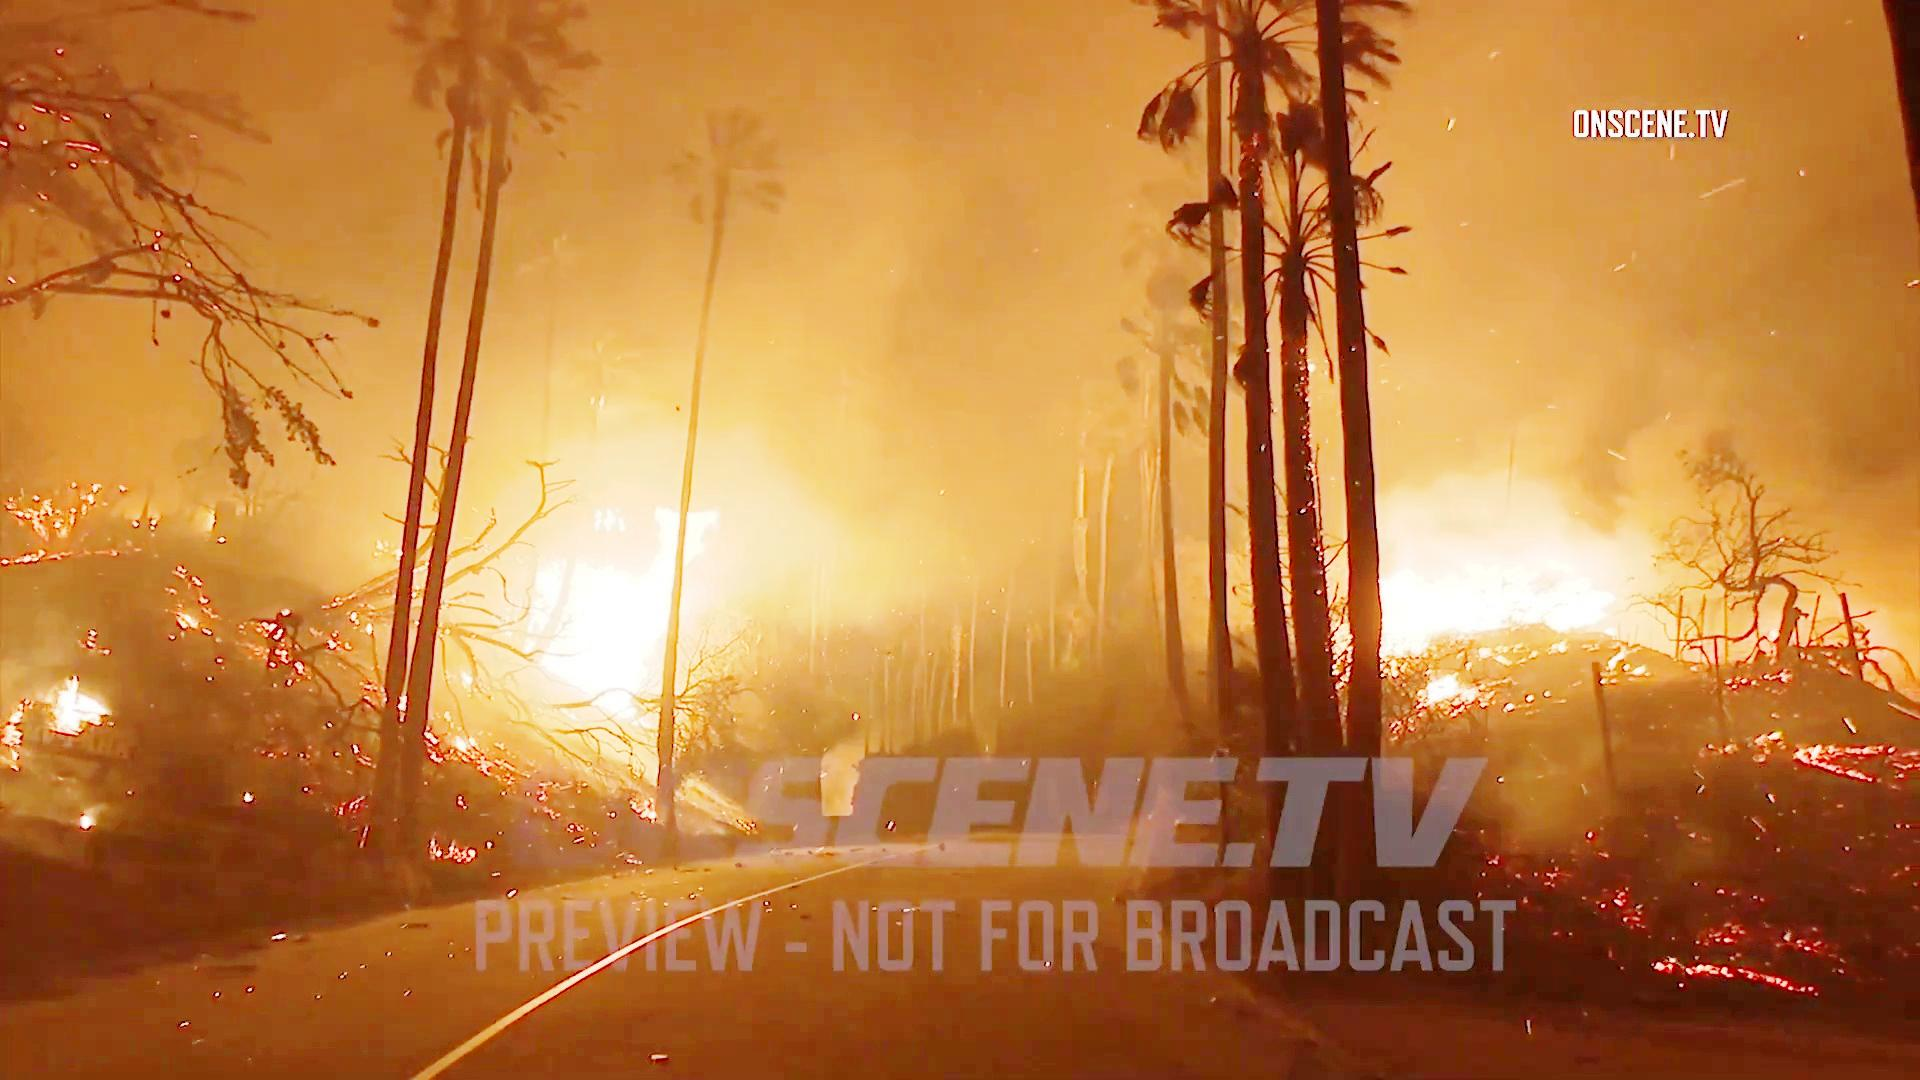fire: (513, 500, 752, 719), (1352, 509, 1660, 670)
